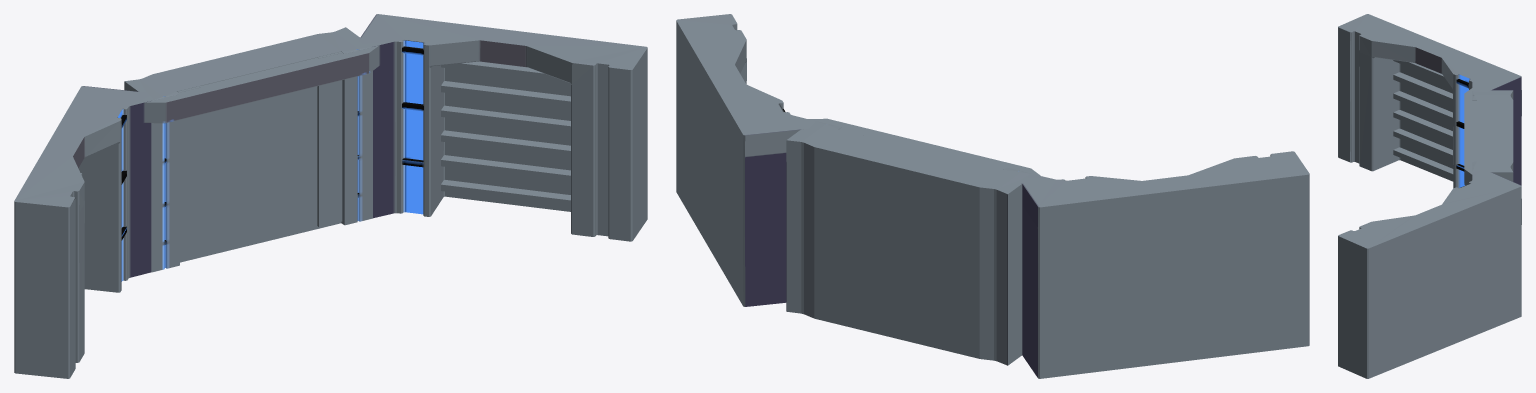
Rendered from LiftWall.fbx.
3 views of the same model, side by side, from view 1: azimuth 30°, elevation 25°; view 2: azimuth 150°, elevation 25°; view 3: azimuth 270°, elevation 25° (orthographic). The views are drawn at different scales.
Visible parts, largest first — view 1: LTLP; view 2: LTLP; view 3: LTLP.
Part boxes in pixels (x1,y1,x2,y2): LTLP: [14, 14, 647, 378]; LTLP: [676, 14, 1309, 378]; LTLP: [1338, 14, 1521, 378].
Size of the model in its own units: 1550 by 402 by 513.
Materials: 1 (1 with a texture image).
